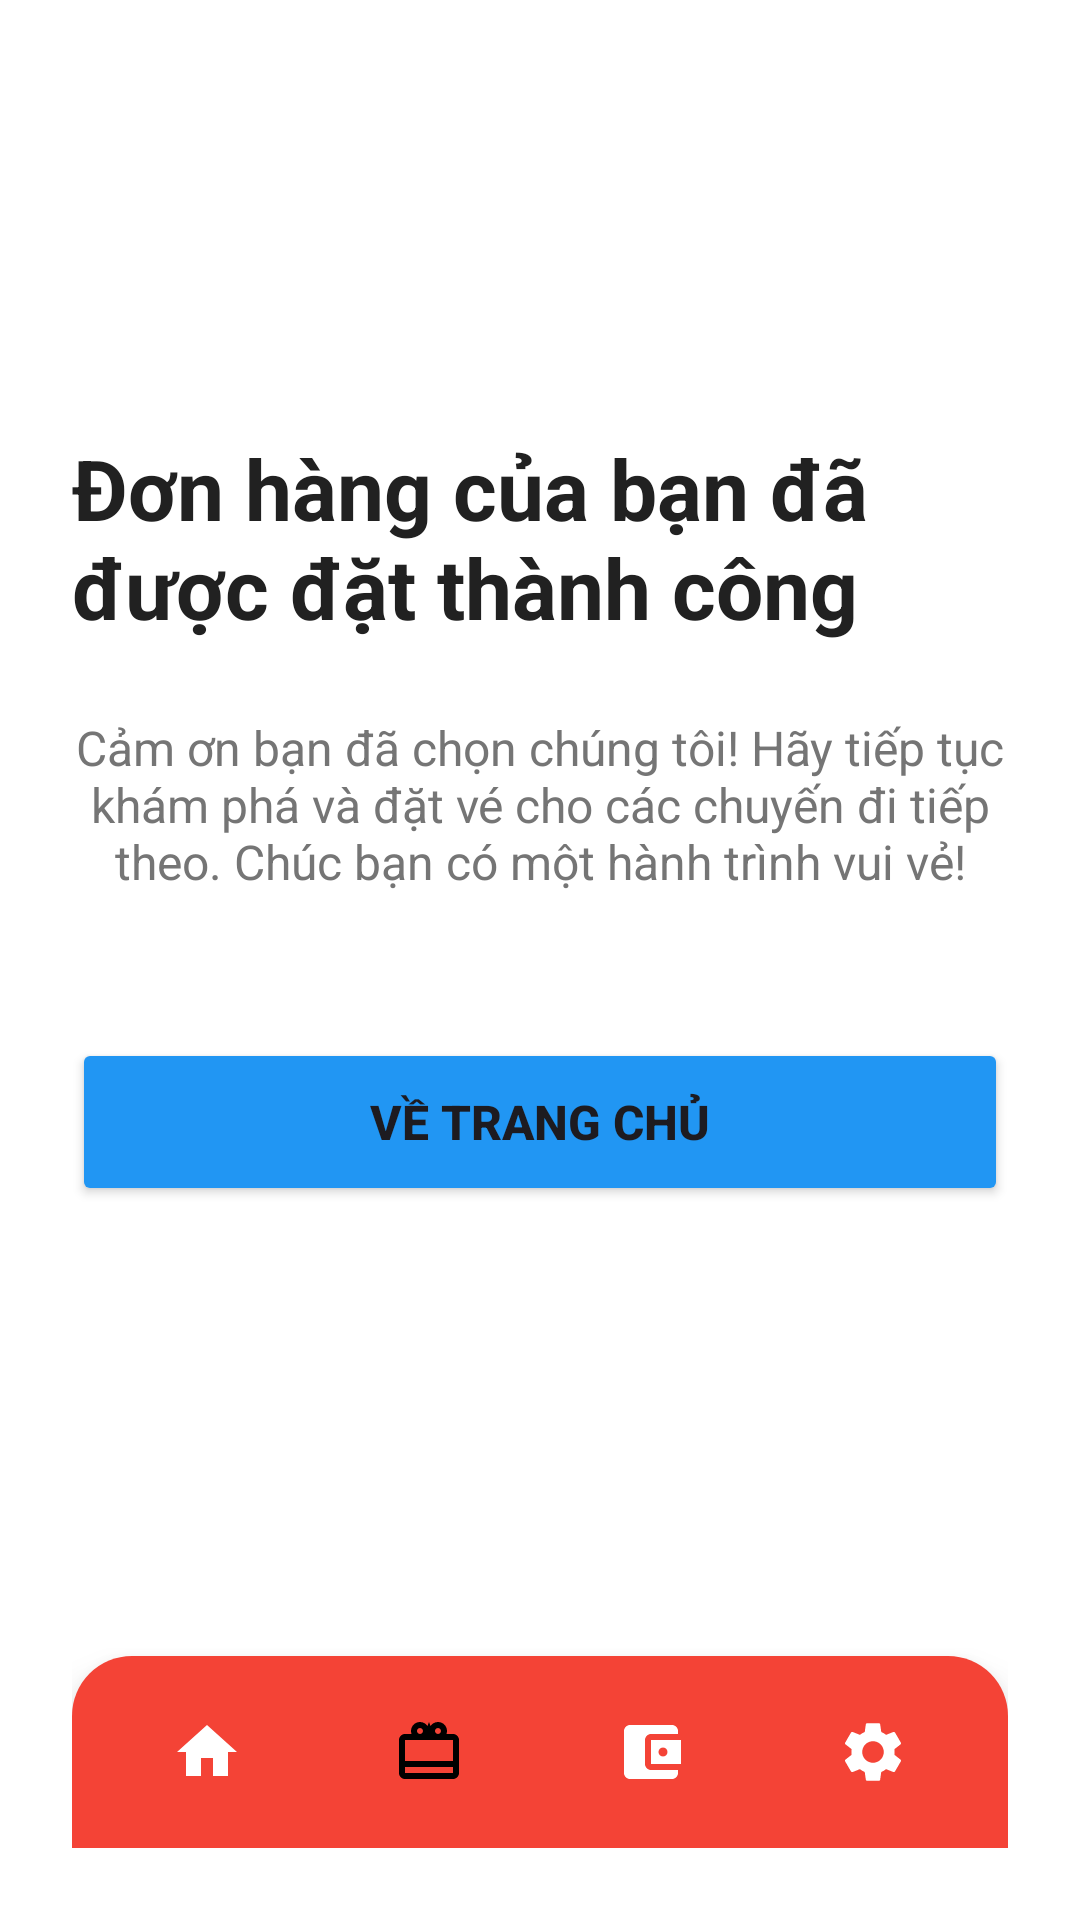

Named icons in this screenshot (1080x1920) and their centers, (x,y):
Home: (207,1750)
Settings: (873,1752)
Wallet: (652,1752)
